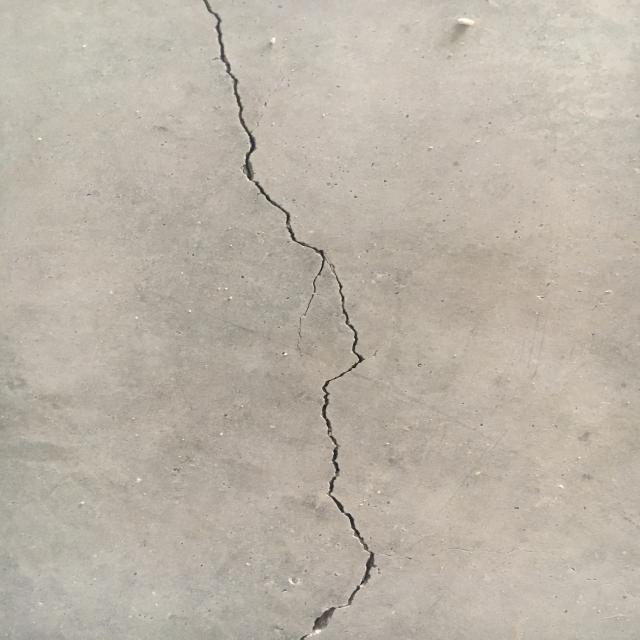Rachadura: (198, 0, 383, 640)
